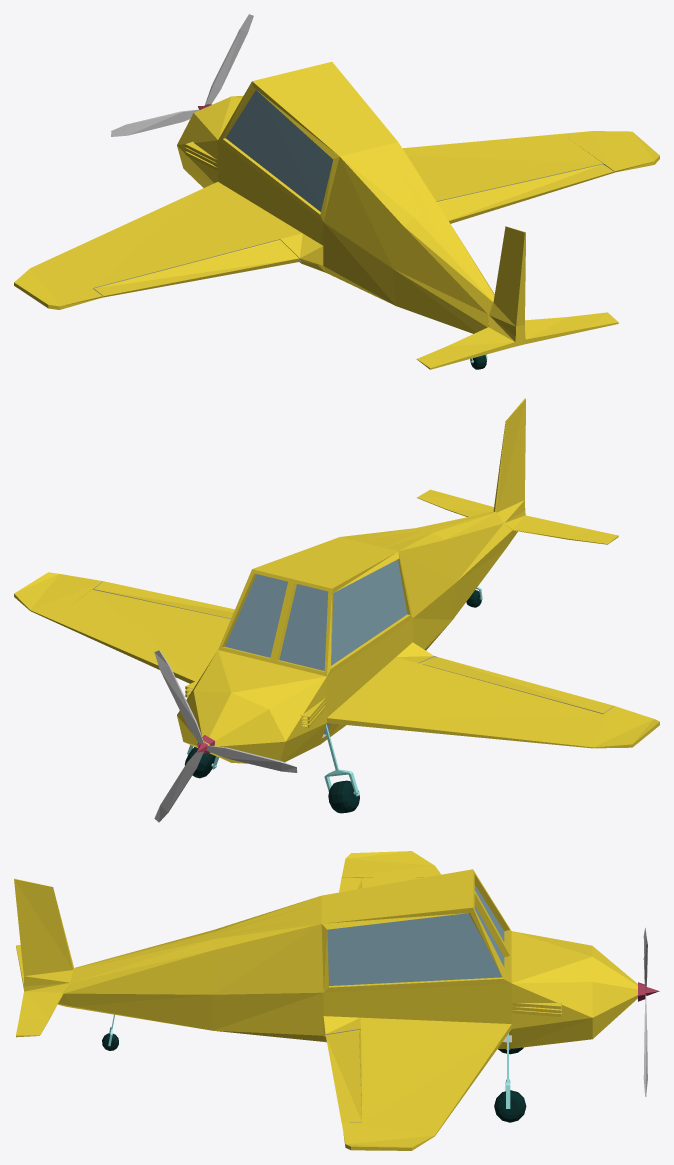
The picture shows the model from 3 angles, top to bottom: view 1: azimuth 30°, elevation 25°; view 2: azimuth 150°, elevation 25°; view 3: azimuth 270°, elevation 25°; orthographic projection.
Visible parts, largest first — view 1: Cube_2, Cube:1, Cube:0; view 2: Cube_2, Cube:1, Cube:0, Cube:2, Wheel_2; view 3: Cube_2, Wheel_1.
Part boxes in pixels (<box>): Cube_2: <box>14,62,659,369</box>; Cube:1: <box>204,14,253,105</box>; Cube:0: <box>111,109,199,136</box>; Cube_2: <box>14,398,659,763</box>; Cube:1: <box>154,650,204,744</box>; Cube:0: <box>207,745,297,772</box>; Cube:2: <box>154,751,203,822</box>; Wheel_2: <box>328,780,359,813</box>; Cube_2: <box>14,851,637,1150</box>; Wheel_1: <box>494,1090,526,1122</box>.
Bounding box in the file's own units: 869 × 285 × 799.
